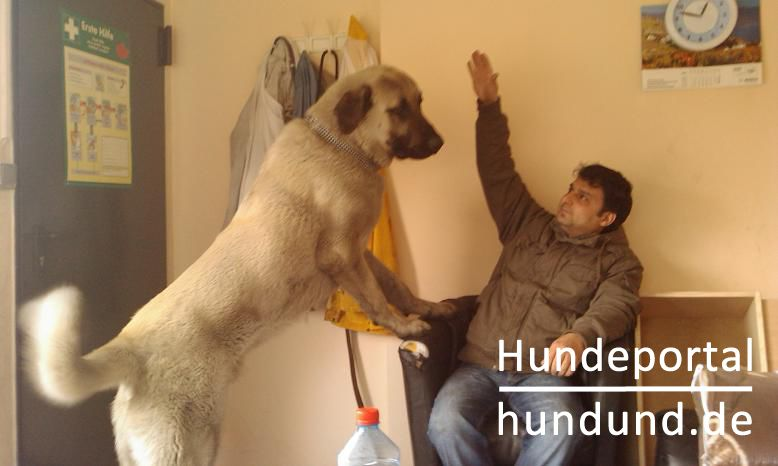human_face: (554, 176, 616, 234)
kangal: (20, 61, 458, 466)
person: (427, 48, 643, 465)
